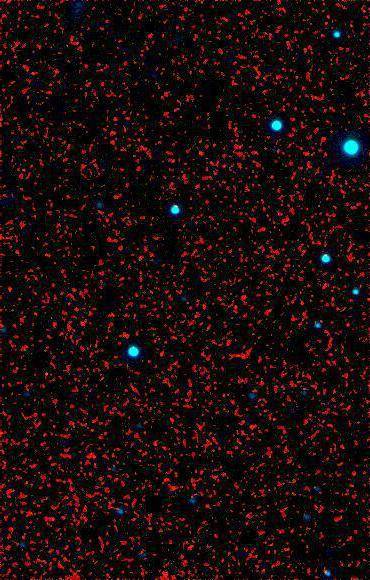star: (33, 356, 63, 386)
